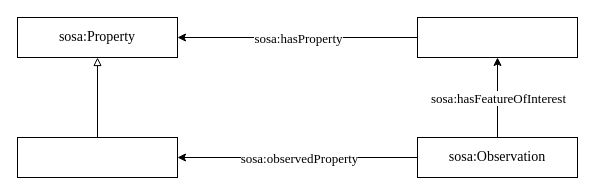
The diagram is 595 pixels wide and 195 high, and some of its shapes have lost their labels. Here are the shapes that lost their labels. From the top down, the box of each, then its label:
(416, 16, 578, 58): sosa:FeatureOfInterest
(16, 136, 178, 178): sosa:ObservableProperty
